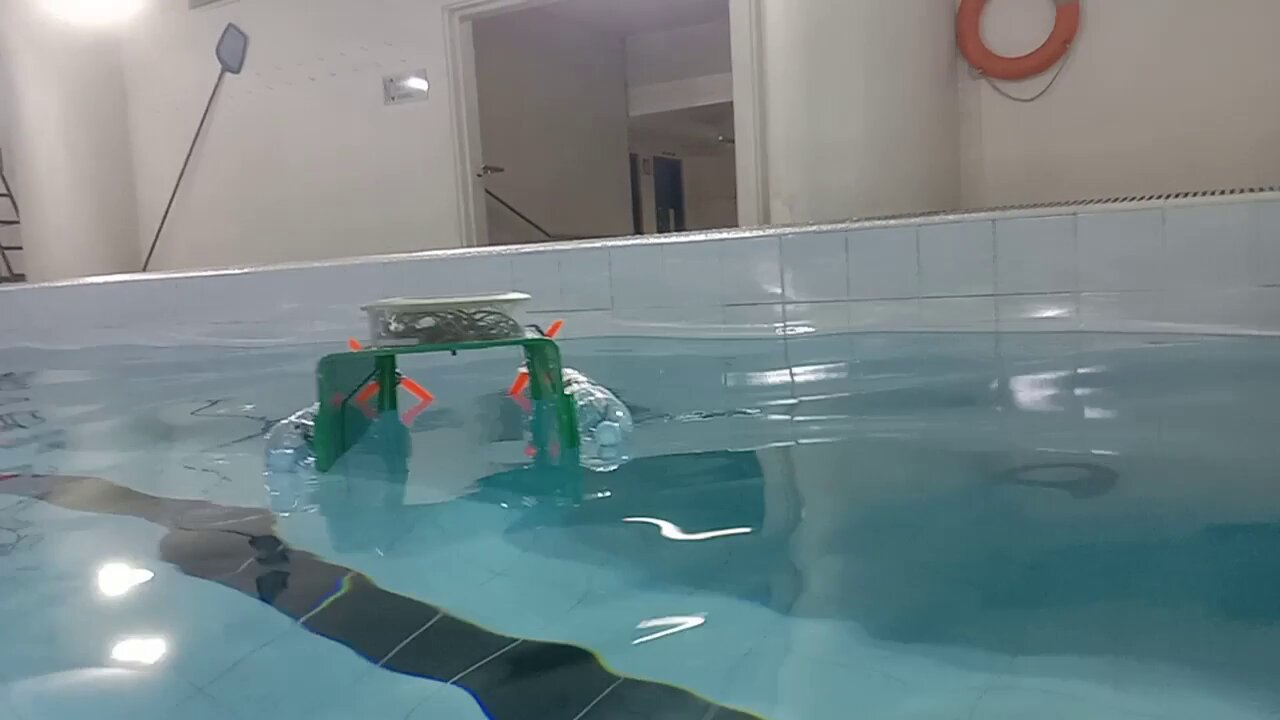drone: (262, 288, 637, 478)
